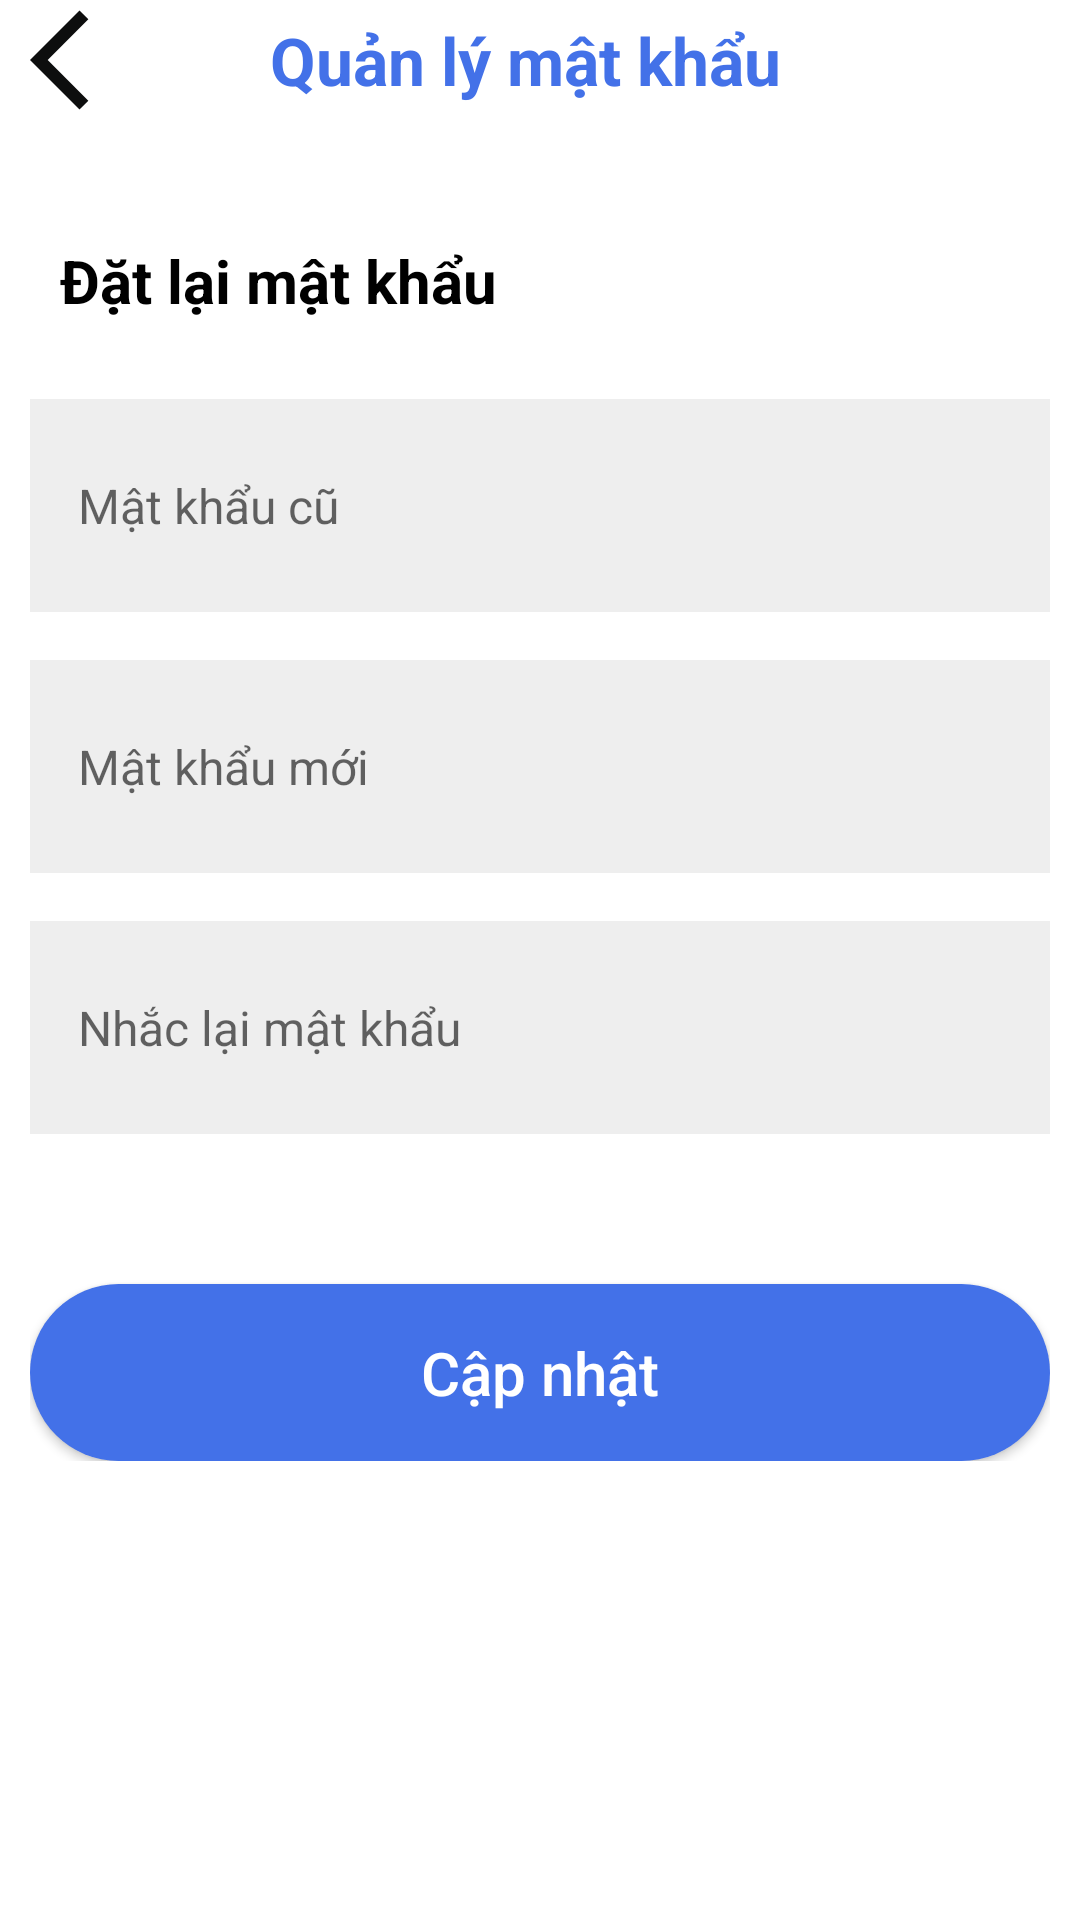

Icon bounding boxes for this 1080px×1920px phone screenshot, format (x1, y1, x2, y2):
back: (30, 10, 89, 110)
